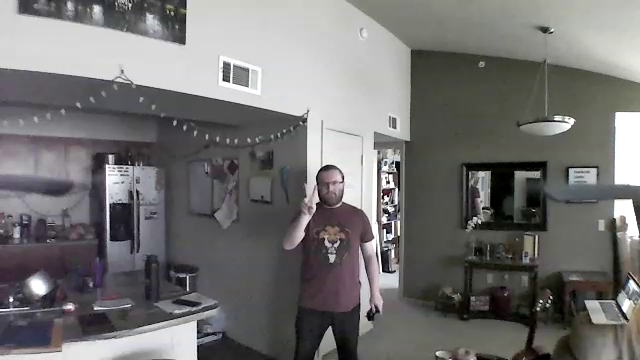peace: (297, 179, 319, 219)
